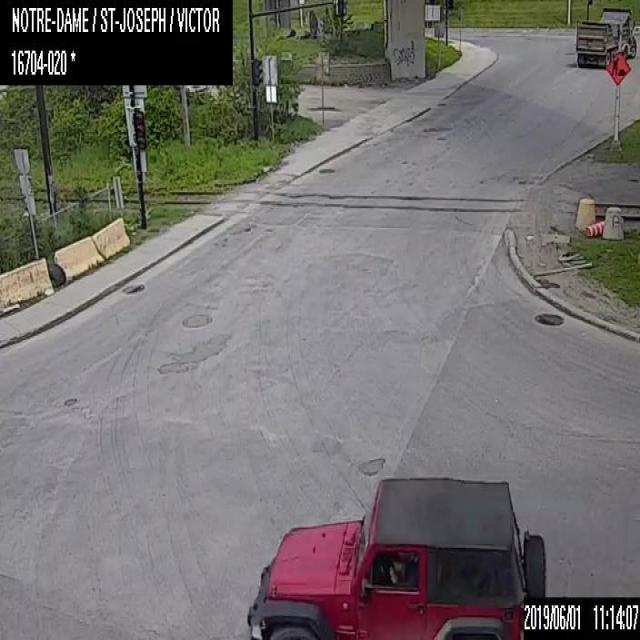construction: (603, 50, 632, 86), (584, 220, 604, 236)
vehicle: (246, 476, 546, 638), (575, 6, 637, 67)
